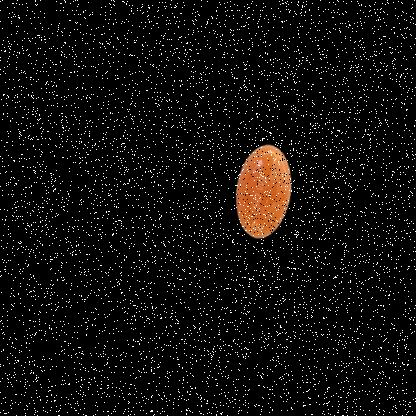welood: (208, 128, 324, 243)
